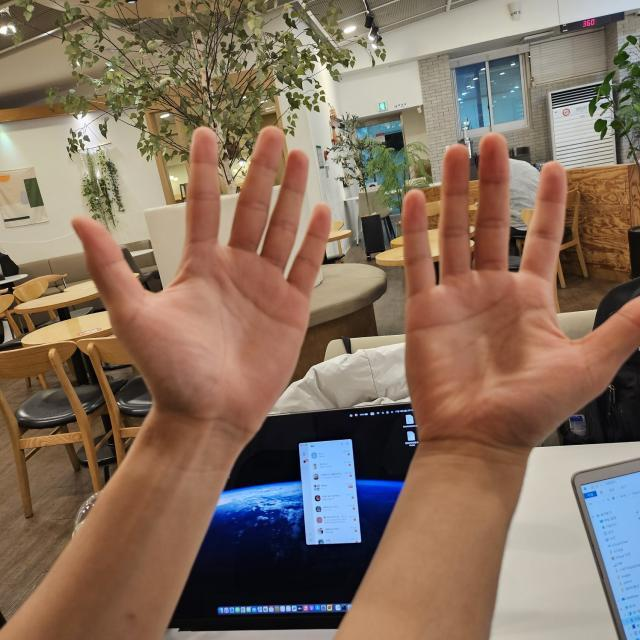hand: (69, 119, 341, 447), (381, 114, 640, 453)
